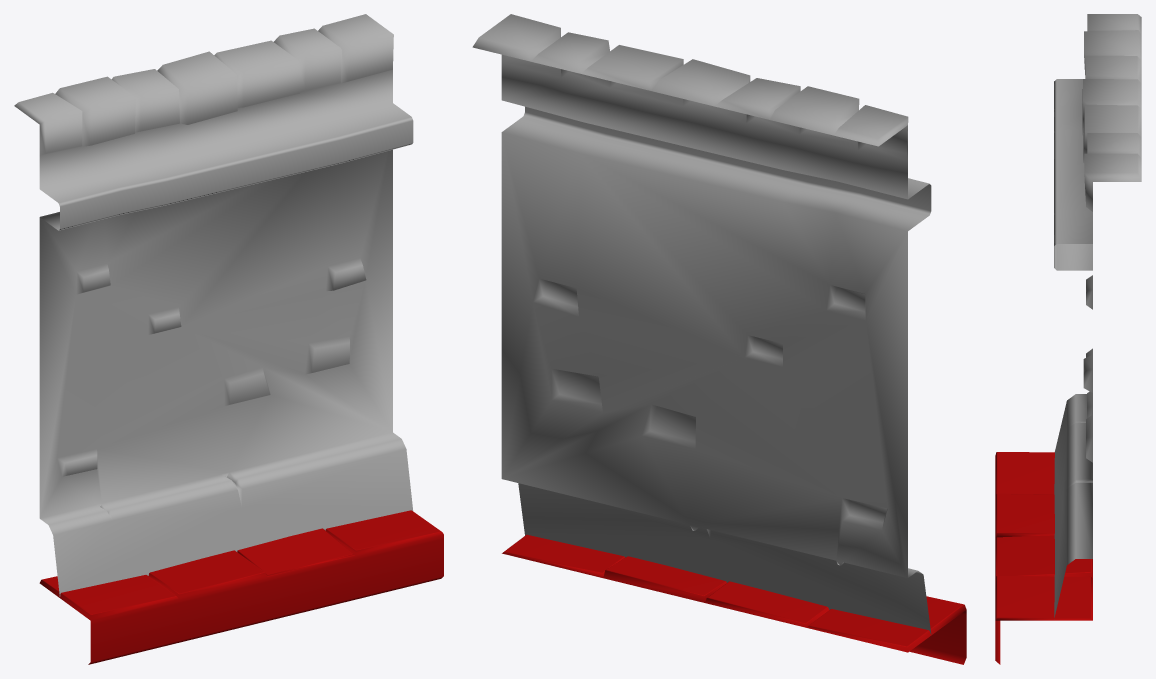
The model's file is SM_castle_wall_low.fbx.
3 renders of one model, left to right at view 1: azimuth 30°, elevation 25°; view 2: azimuth 150°, elevation 25°; view 3: azimuth 270°, elevation 25°, orthographic. The views are drawn at different scales.
Parts seen in each view (by area): view 1: SM_castle_wall_low, SM_castle_wall_floor_low; view 2: SM_castle_wall_low, SM_castle_wall_floor_low; view 3: SM_castle_wall_low, SM_castle_wall_floor_low.
Boxes of the visible parts, x1,y1,x2,y2 form: SM_castle_wall_low: (14, 14, 413, 596); SM_castle_wall_floor_low: (39, 510, 443, 664); SM_castle_wall_low: (472, 14, 931, 634); SM_castle_wall_floor_low: (502, 534, 966, 664); SM_castle_wall_low: (1054, 14, 1141, 619); SM_castle_wall_floor_low: (995, 452, 1092, 664).
Bounding box in the file's own units: 400 × 556 × 150.
